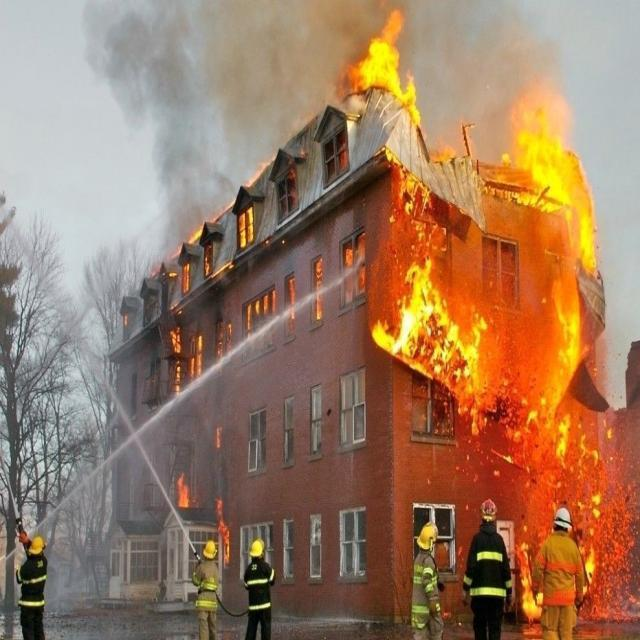Fire: (370, 258, 436, 354), (358, 38, 420, 118), (518, 104, 568, 202), (557, 297, 582, 375), (214, 496, 229, 561), (556, 412, 572, 465), (176, 470, 190, 510)
Smoke: (85, 0, 339, 234)
